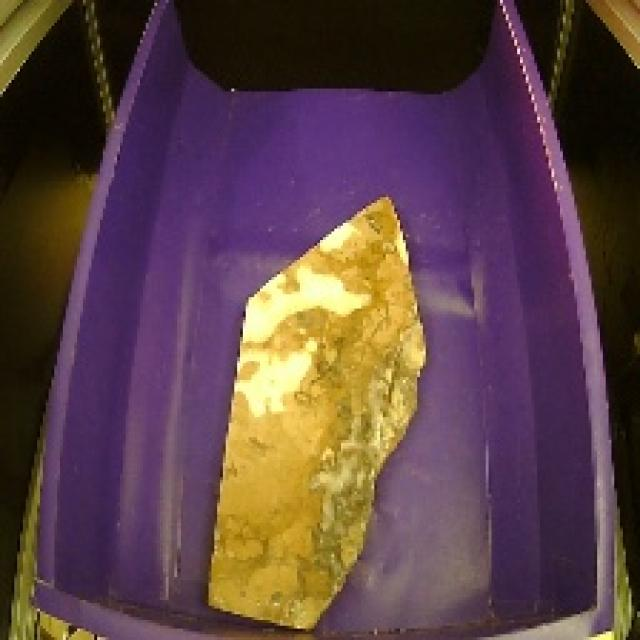china: (202, 188, 433, 637)
